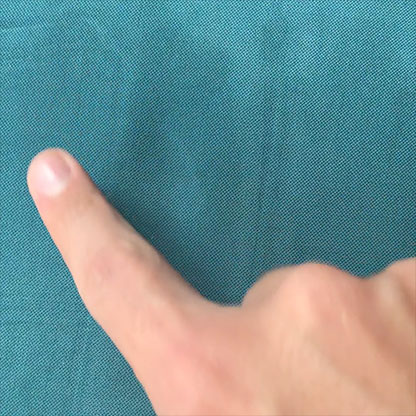fingertip: (19, 138, 92, 205)
